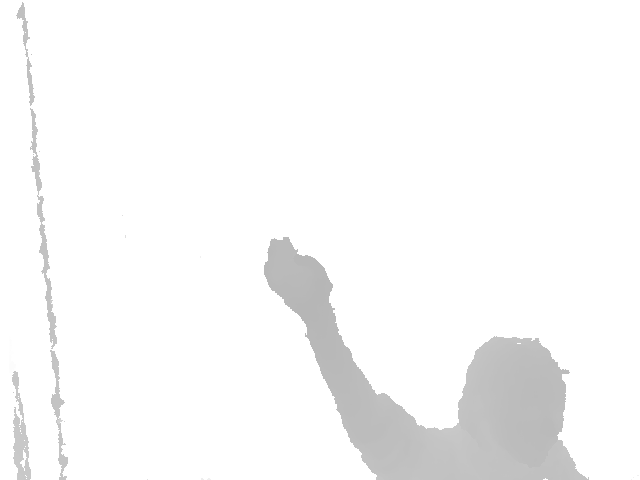hand: (263, 236, 335, 314)
head: (456, 336, 567, 469)
person: (263, 236, 589, 480)
